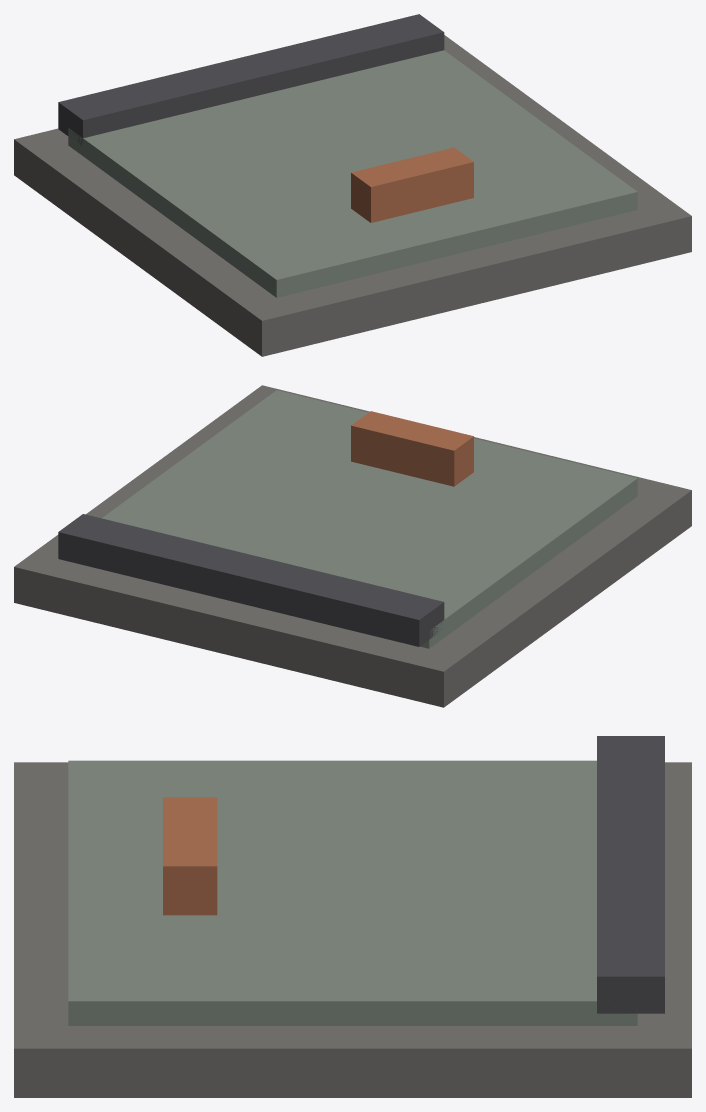
The model's file is env_hatch.glb.
3 views of the same model, one above another, from view 1: azimuth 30°, elevation 25°; view 2: azimuth 150°, elevation 25°; view 3: azimuth 270°, elevation 25° (orthographic). The views are drawn at different scales.
Parts seen in each view (by area): view 1: env_hatch; view 2: env_hatch; view 3: env_hatch.
Boxes of the visible parts, x1,y1,x2,y2 form: env_hatch: (14,14,691,356); env_hatch: (14,385,691,707); env_hatch: (14,736,691,1097).
Bounding box in the file's own units: 1 × 0.24 × 1.
